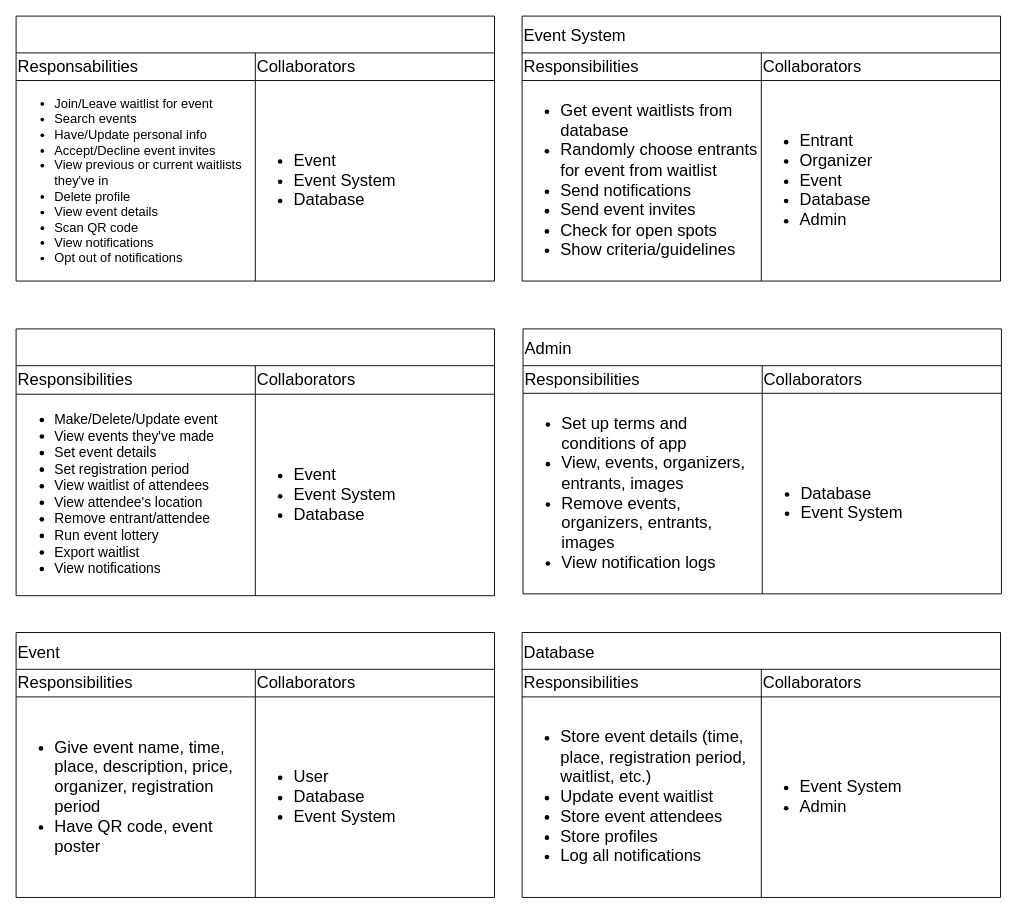
This 1018x914 diagram has some shape labels left out. Each missing label, with the box of its shape:
Entrant: (15, 15, 494, 281)
Organizer: (15, 328, 494, 596)
